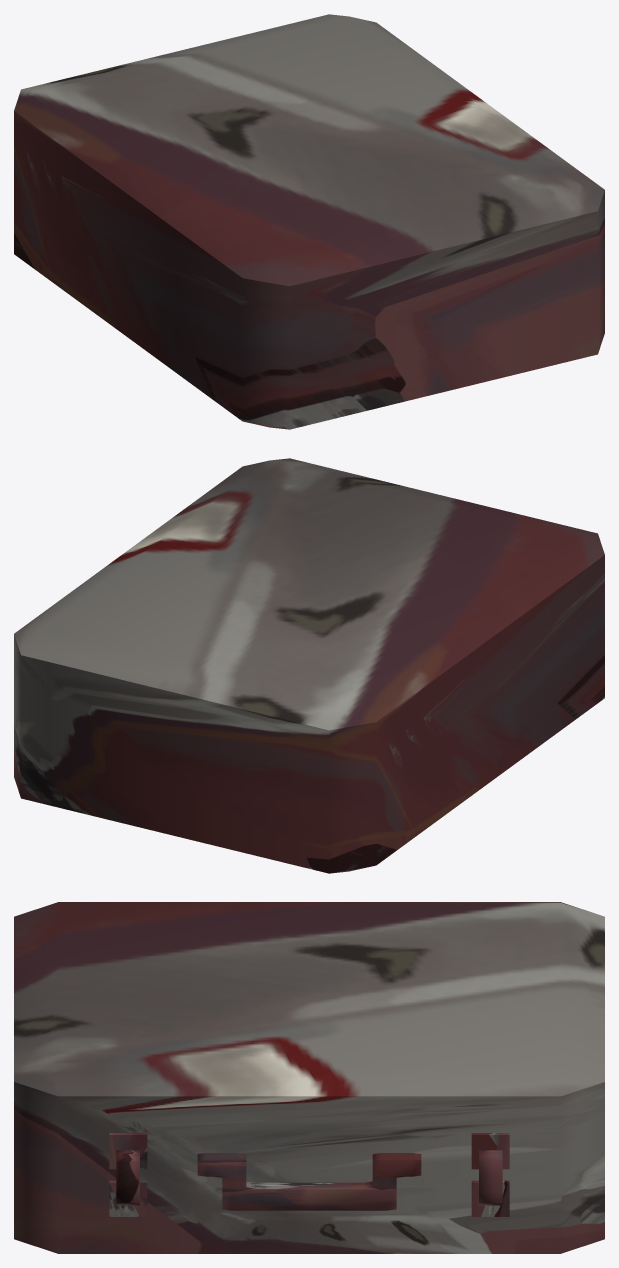
File: first aid kit.fbx
The picture shows the model from 3 angles, top to bottom: view 1: azimuth 30°, elevation 25°; view 2: azimuth 150°, elevation 25°; view 3: azimuth 270°, elevation 25°; orthographic projection. The views are drawn at different scales.
Visible parts, largest first — view 1: first aid kit; view 2: first aid kit; view 3: first aid kit.
Boxes of the visible parts, x1=… form: first aid kit: x1=14, y1=14, x2=604, y2=429; first aid kit: x1=14, y1=458, x2=604, y2=873; first aid kit: x1=14, y1=902, x2=604, y2=1253.
Bounding box in the file's own units: 163 × 69.17 × 200.
